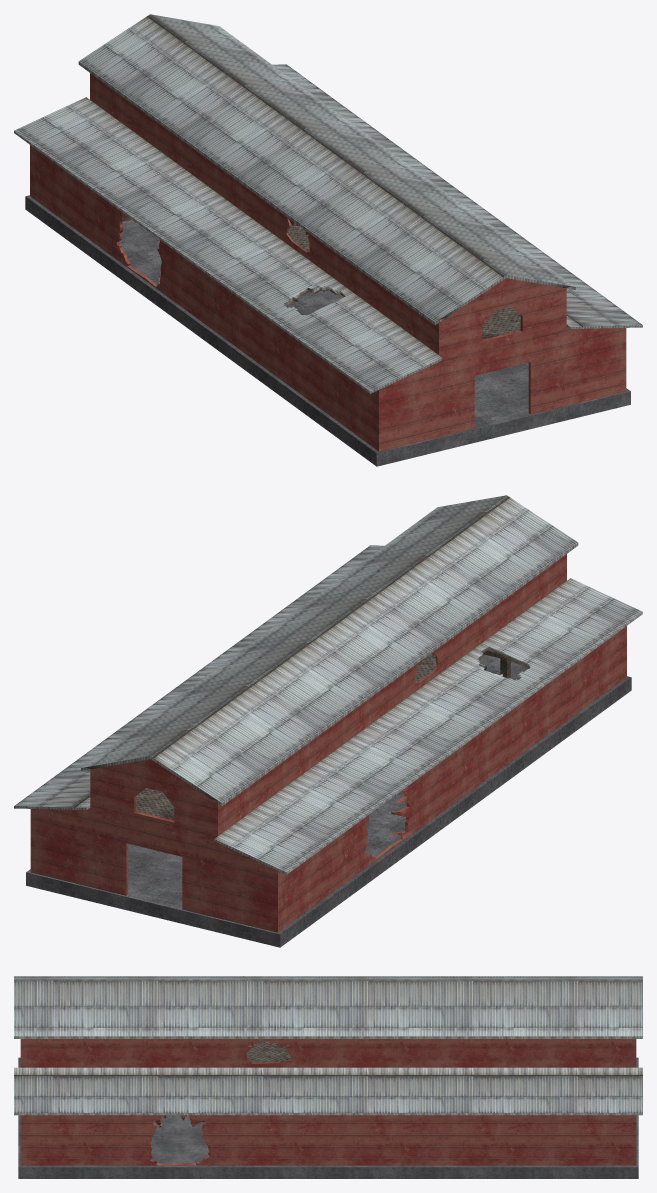
File: warehouse_2.fbx
3 views of the same model, one above another, from view 1: azimuth 30°, elevation 25°; view 2: azimuth 150°, elevation 25°; view 3: azimuth 270°, elevation 25° (orthographic). The views are drawn at different scales.
Visible parts, largest first — view 1: metal, stone; view 2: metal, stone; view 3: metal, stone.
Boxes of the visible parts, x1=… form: metal: x1=14, y1=14, x2=642, y2=451; stone: x1=25, y1=195, x2=630, y2=466; metal: x1=14, y1=495, x2=642, y2=932; stone: x1=26, y1=654, x2=631, y2=947; metal: x1=14, y1=976, x2=642, y2=1165; stone: x1=18, y1=1057, x2=638, y2=1178.
Bounding box in the file's own units: 1394 × 794 × 3156.
Materials: 5 (5 with a texture image).
